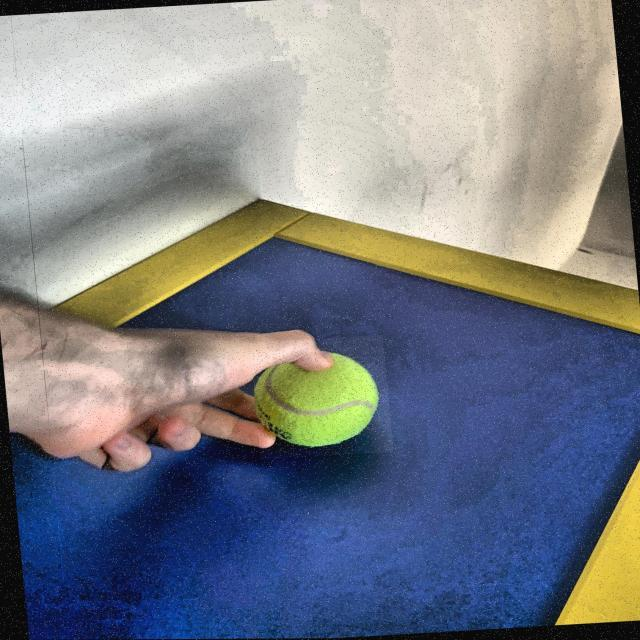tennis-ball: (250, 336, 395, 461)
